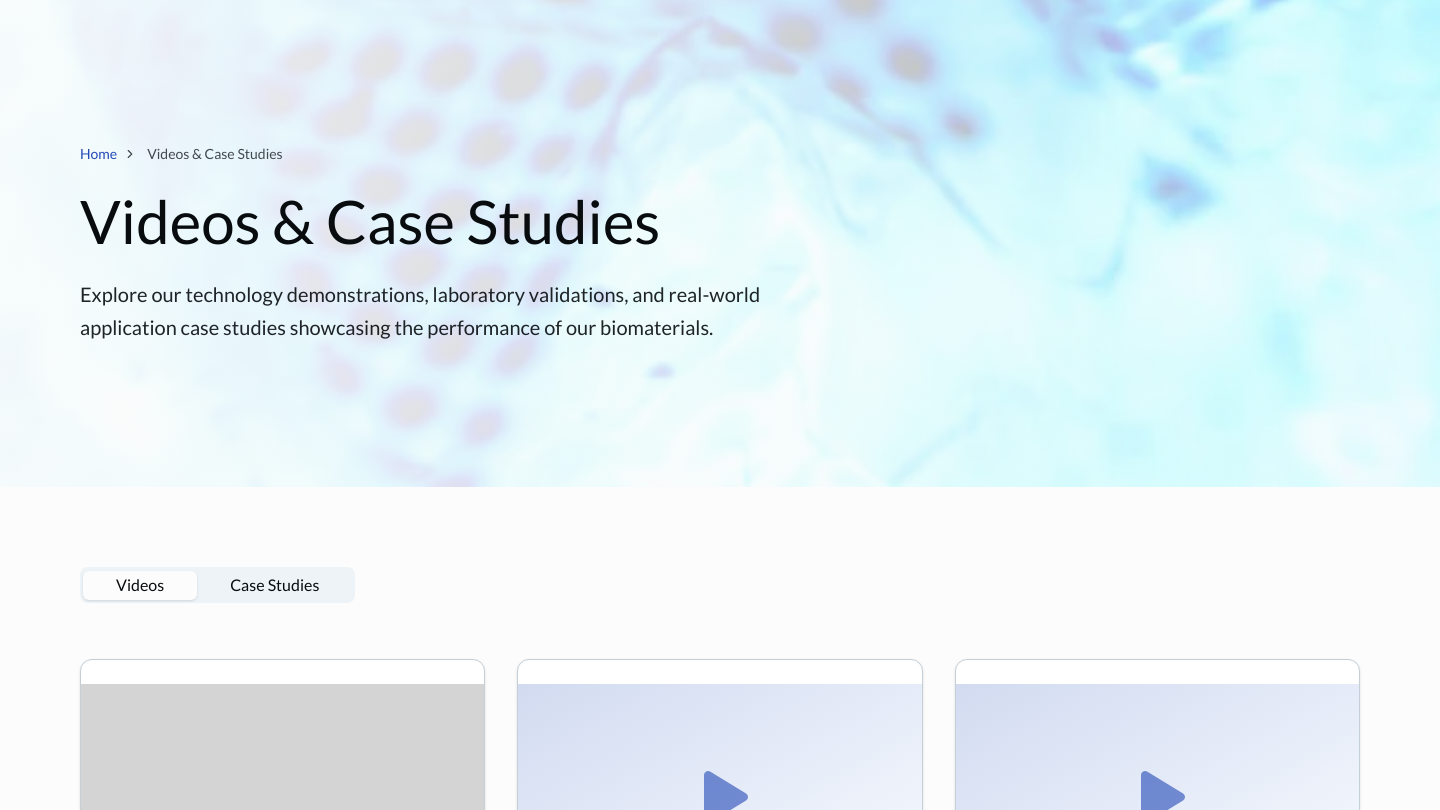
Test: MediaPage › tab switching › shows case study cards when tab is selected
Click the tab "Case Studies".
click(275, 585)  # box [197,570,352,600]
(page scrolled)
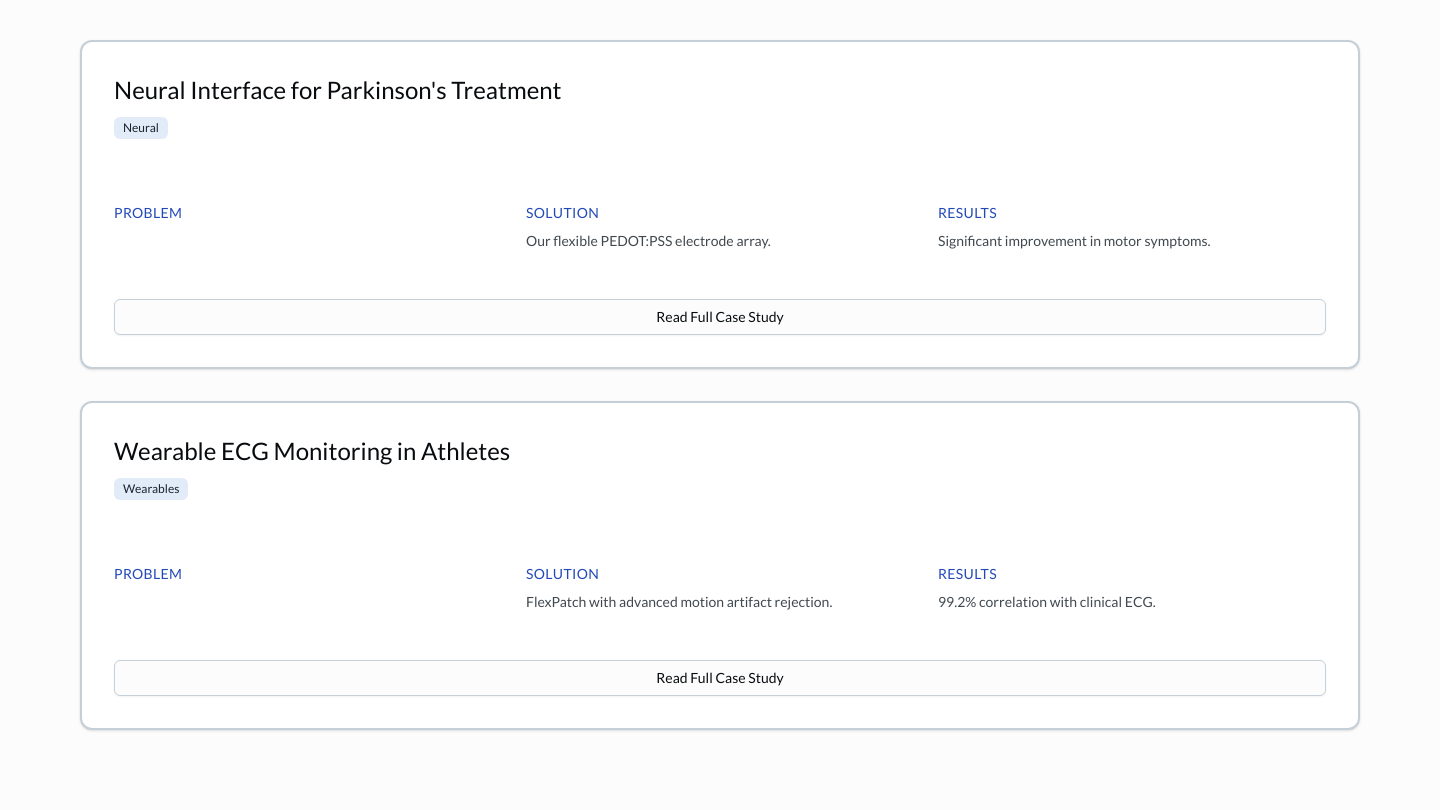
Check: the heading "Neural Interface for Parkinson's Treatment" is shown, box [114,75,562,104]
Check: the heading "Wearable ECG Monitoring in Athletes" is shown, box [114,436,510,465]
